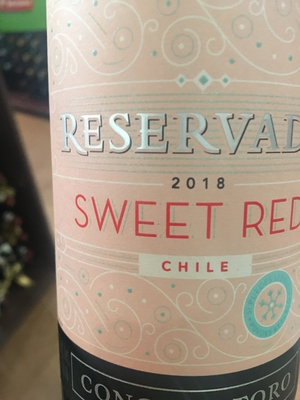reservado sweet red: (45, 1, 293, 400)
